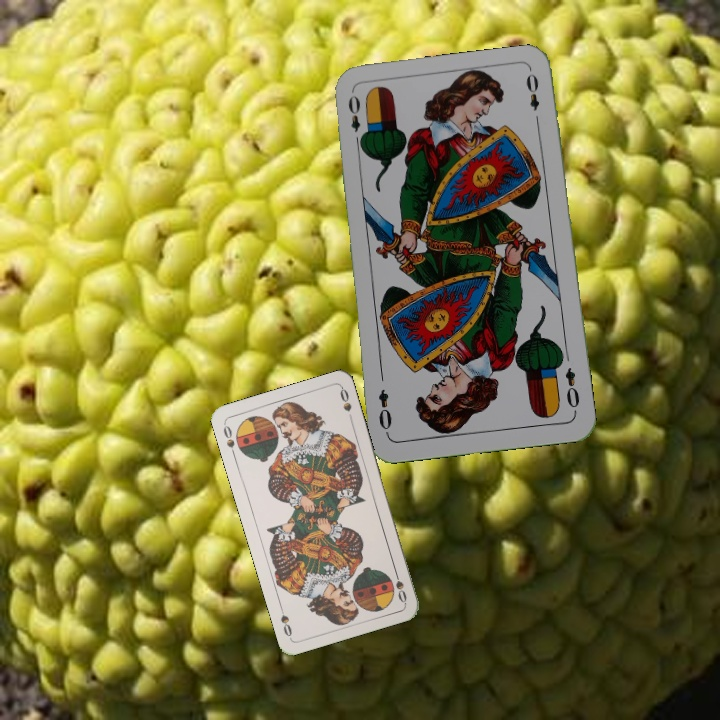EO: (344, 91, 367, 149), (561, 364, 582, 416)
SO: (390, 565, 409, 605), (219, 420, 238, 459)
